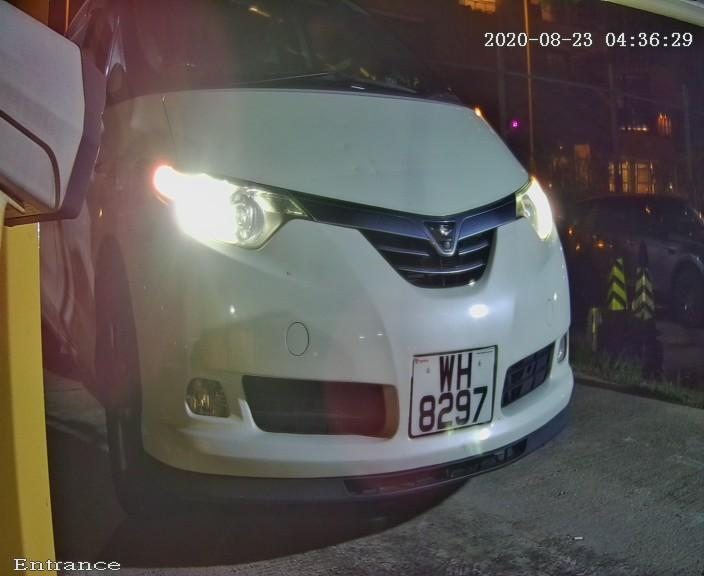Car: (35, 1, 620, 546)
License Plate: (397, 332, 510, 451)
